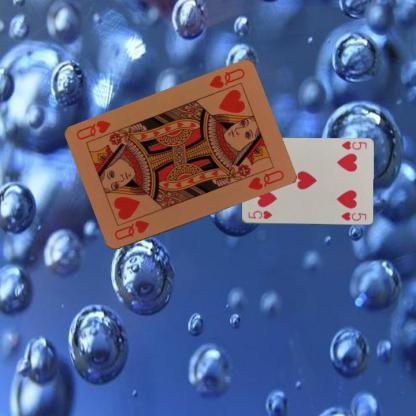5h: (339, 139, 368, 151), (246, 208, 273, 220)
Qh: (206, 66, 246, 90), (112, 218, 150, 242)
